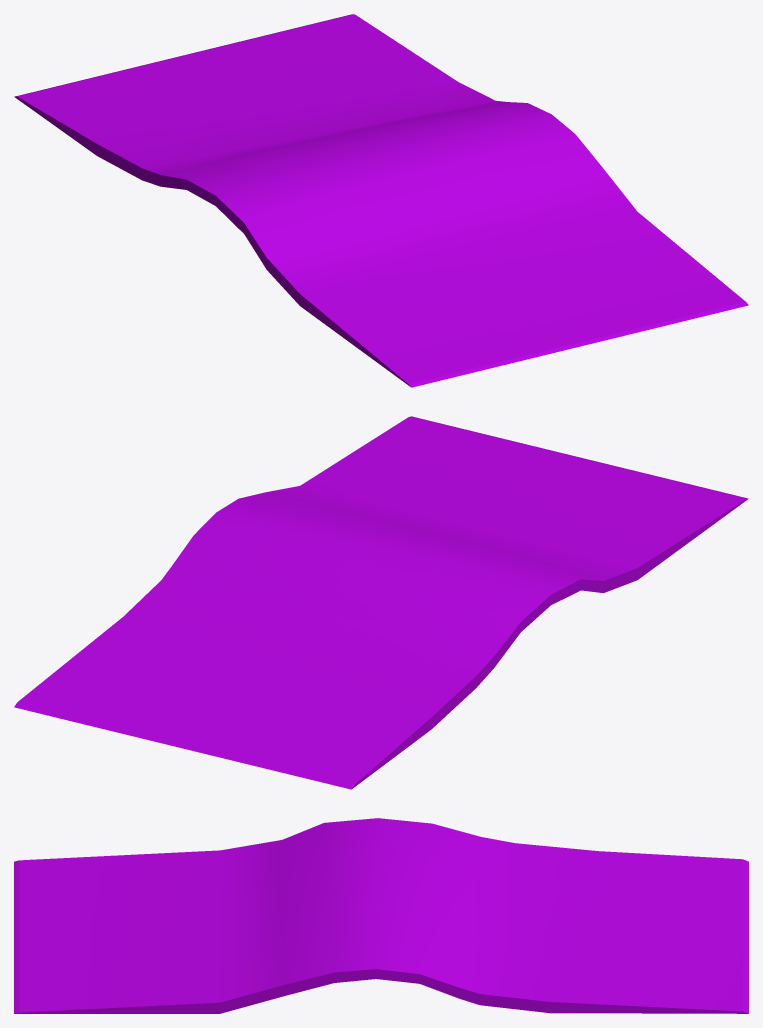
File: Bath_towel_05.fbx
3 views of the same model, one above another, from view 1: azimuth 30°, elevation 25°; view 2: azimuth 150°, elevation 25°; view 3: azimuth 270°, elevation 25° (orthographic). The views are drawn at different scales.
Visible parts, largest first — view 1: Bath_towel_05; view 2: Bath_towel_05; view 3: Bath_towel_05.
Boxes of the visible parts, x1,y1,x2,y2 form: Bath_towel_05: (14, 14, 748, 387); Bath_towel_05: (14, 416, 748, 789); Bath_towel_05: (14, 818, 748, 1013).
Bounding box in the file's own units: 210 × 30.37 × 429.
